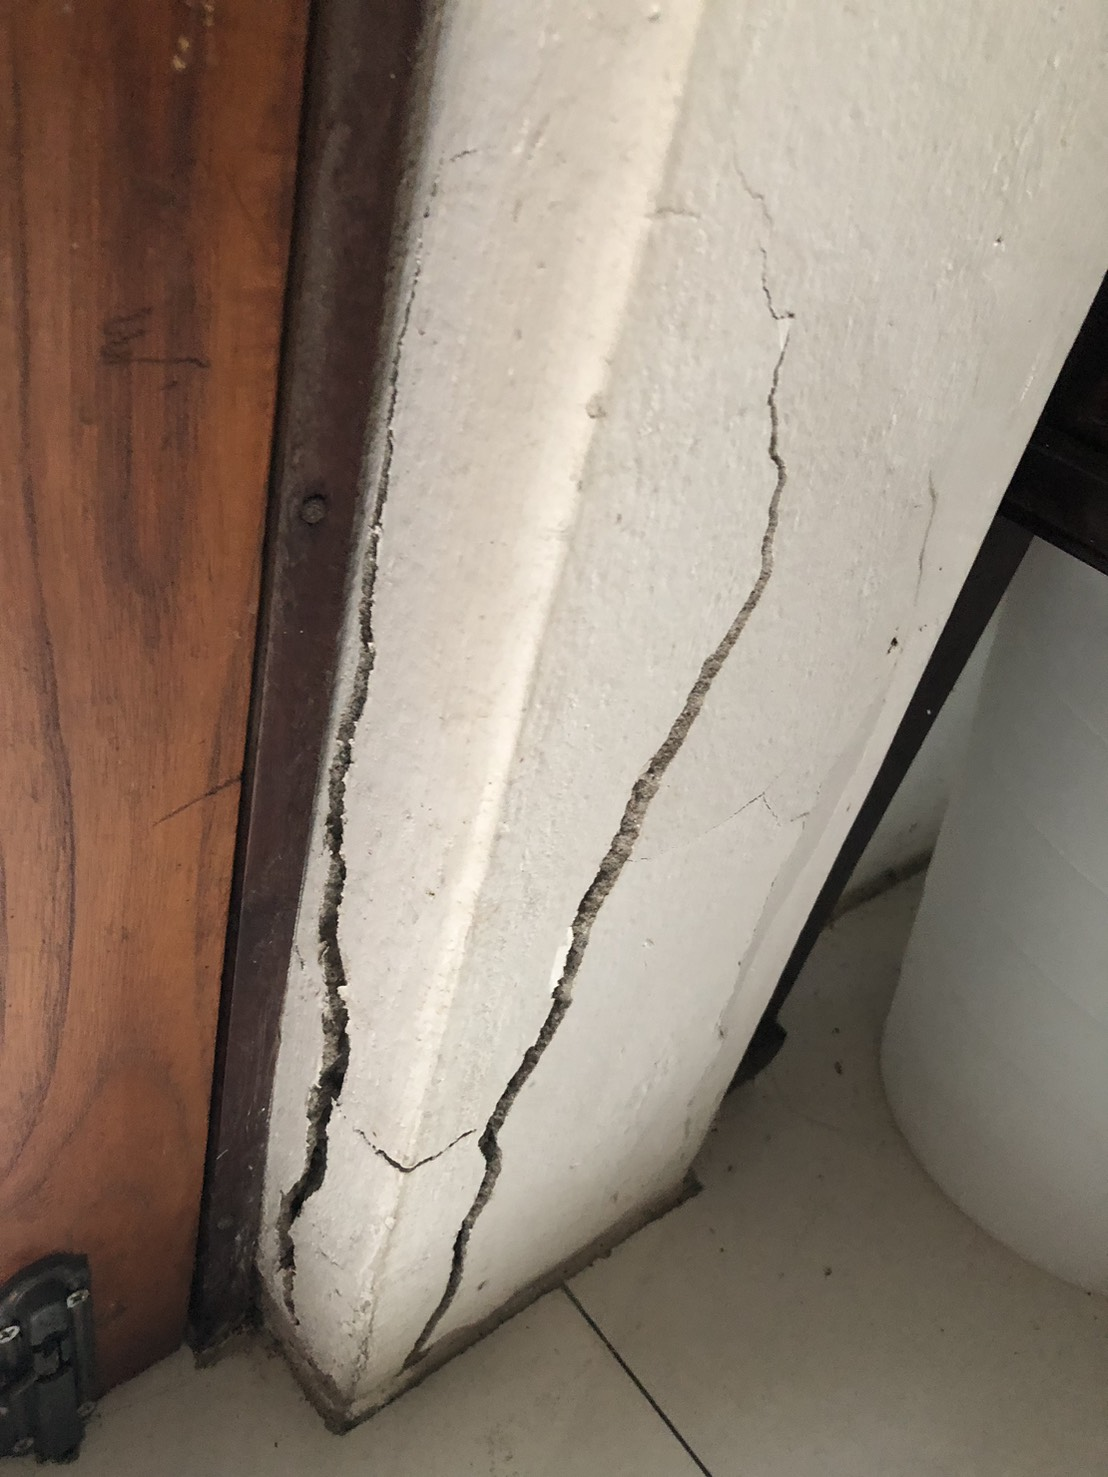High: (262, 140, 800, 1447)
